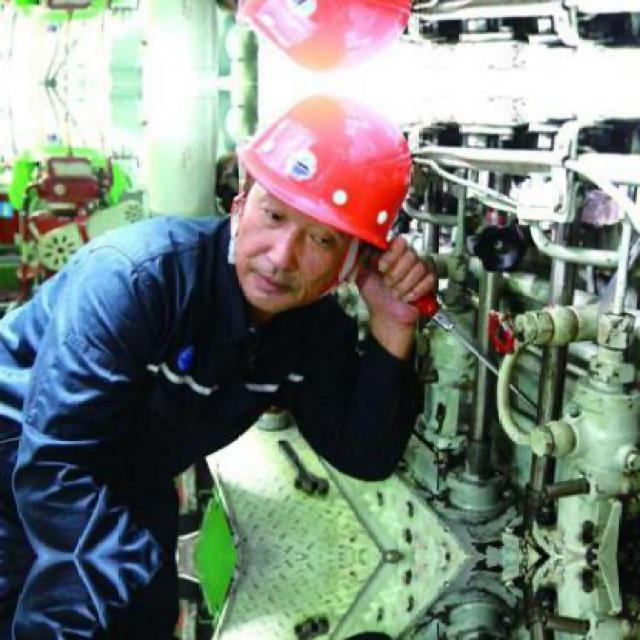helmet: (220, 90, 429, 313), (218, 0, 430, 79)
